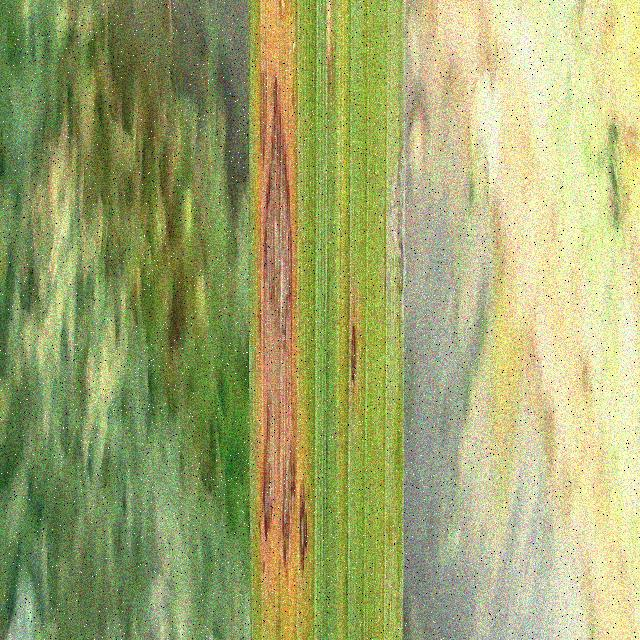LEAF BLAST: (259, 70, 296, 564), (260, 66, 268, 177), (349, 311, 358, 409), (300, 477, 308, 579)
